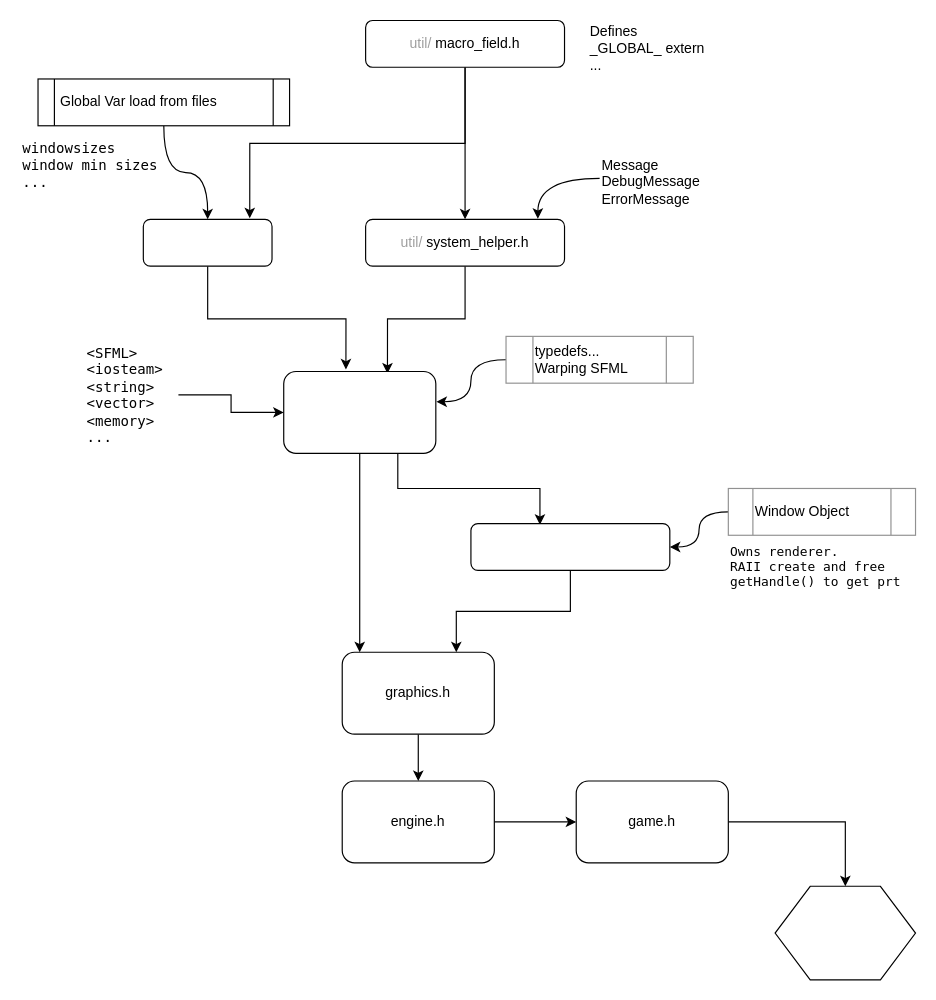
This 936x1000 diagram has some shape labels left out. The centre of each missing label's shape, as x and y in pixels:
"creator.cpp" goes at point (845, 932).
"graphics/ window.h" goes at point (570, 546).
"util/ configure.h" goes at point (207, 242).
"utility.h" goes at point (359, 411).
